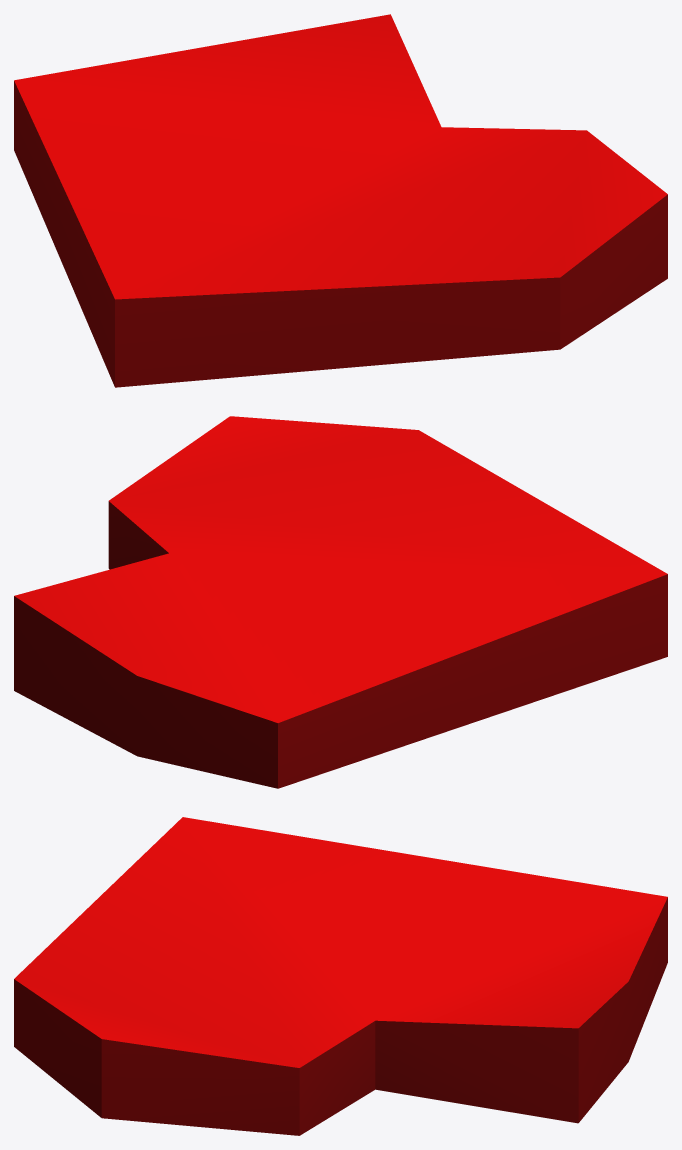
File: geology-landforms-icedrift_v9.fbx
The picture shows the model from 3 angles, top to bottom: view 1: azimuth 30°, elevation 25°; view 2: azimuth 150°, elevation 25°; view 3: azimuth 270°, elevation 25°; orthographic projection. The views are drawn at different scales.
Parts seen in each view (by area): view 1: IceDrift_v9; view 2: IceDrift_v9; view 3: IceDrift_v9.
Boxes of the visible parts, bbox=[...] form: IceDrift_v9: bbox=[14, 14, 667, 387]; IceDrift_v9: bbox=[14, 416, 667, 788]; IceDrift_v9: bbox=[14, 817, 667, 1135].
Size of the model in its own units: 2.44 by 0.4944 by 2.76.
